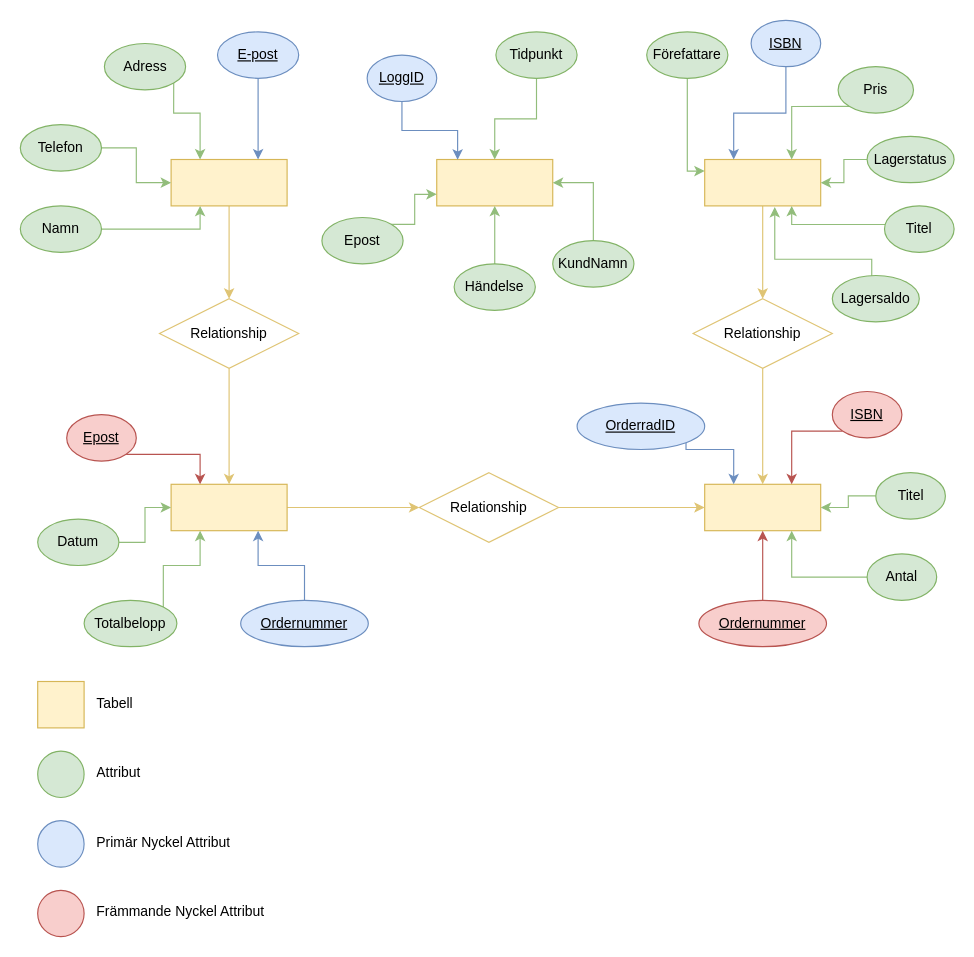
This 974x957 diagram has some shape labels left out. Each missing label, with the box of its shape:
Beställningar: (170, 483, 287, 531)
Böcker: (704, 158, 821, 206)
Kunder: (170, 158, 287, 206)
Kundlogg: (436, 158, 553, 206)
Orderrader: (704, 483, 821, 531)
